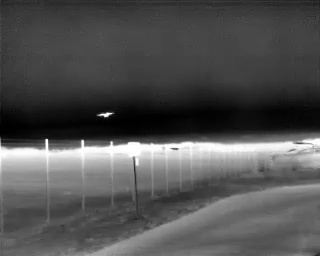AIRPLANE: (95, 109, 116, 120)
